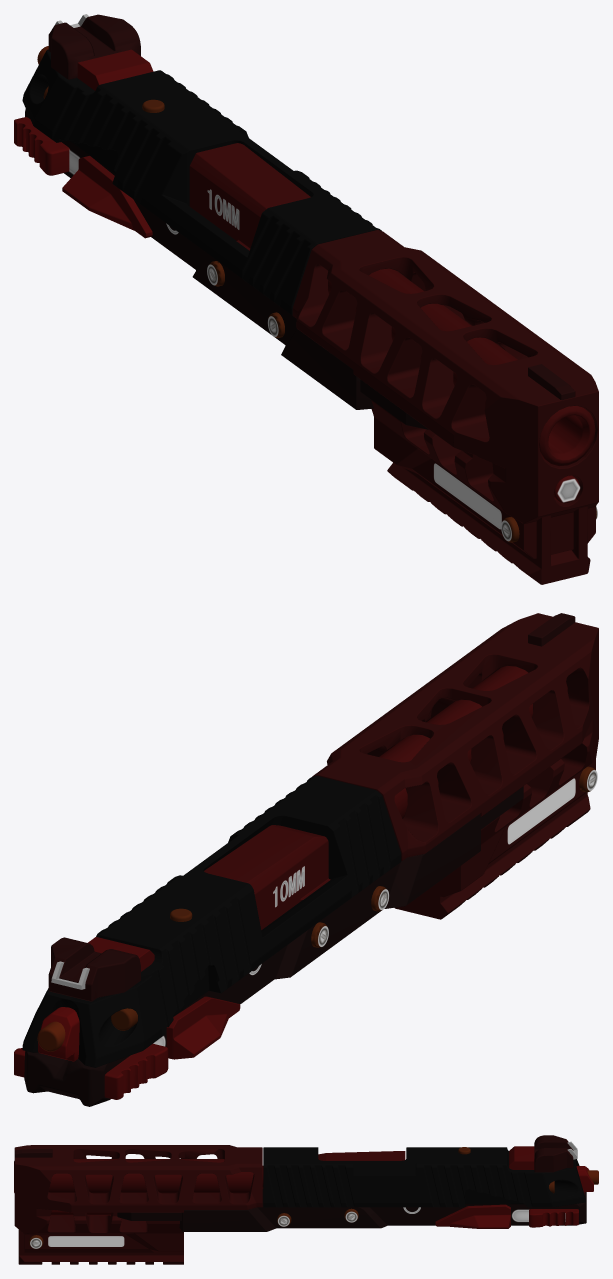
Rendered from Front_Pistol_4.glb.
The picture shows the model from 3 angles, top to bottom: view 1: azimuth 30°, elevation 25°; view 2: azimuth 150°, elevation 25°; view 3: azimuth 270°, elevation 25°; orthographic projection. The views are drawn at different scales.
Visible parts, largest first — view 1: g_frame, g_slide, g_barrel, g_decals_frame; view 2: g_frame, g_slide, g_barrel, g_decals_frame; view 3: g_frame, g_slide, g_barrel, g_decals_frame.
Boxes of the visible parts, x1,y1,x2,y2 form: g_frame: [14, 109, 598, 584]; g_slide: [22, 14, 381, 315]; g_barrel: [189, 143, 595, 503]; g_decals_frame: [69, 149, 597, 541]; g_frame: [14, 613, 598, 1106]; g_slide: [22, 775, 401, 1067]; g_barrel: [204, 666, 567, 929]; g_decals_frame: [153, 770, 597, 1046]; g_frame: [14, 1145, 586, 1264]; g_slide: [263, 1135, 598, 1207]; g_barrel: [14, 1151, 405, 1215]; g_decals_frame: [30, 1207, 565, 1248].
Bounding box in the file's own units: 0.0453 × 0.0663 × 0.3096.
3 materials, 2 textured.
